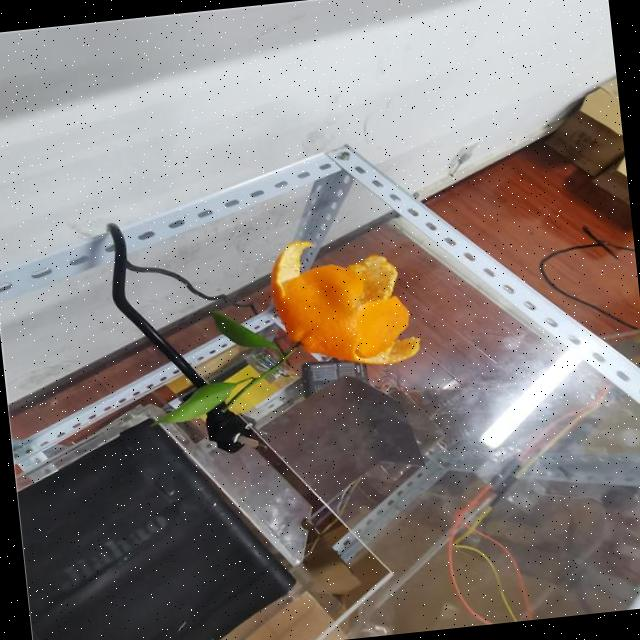orange-peel: (264, 226, 422, 376)
